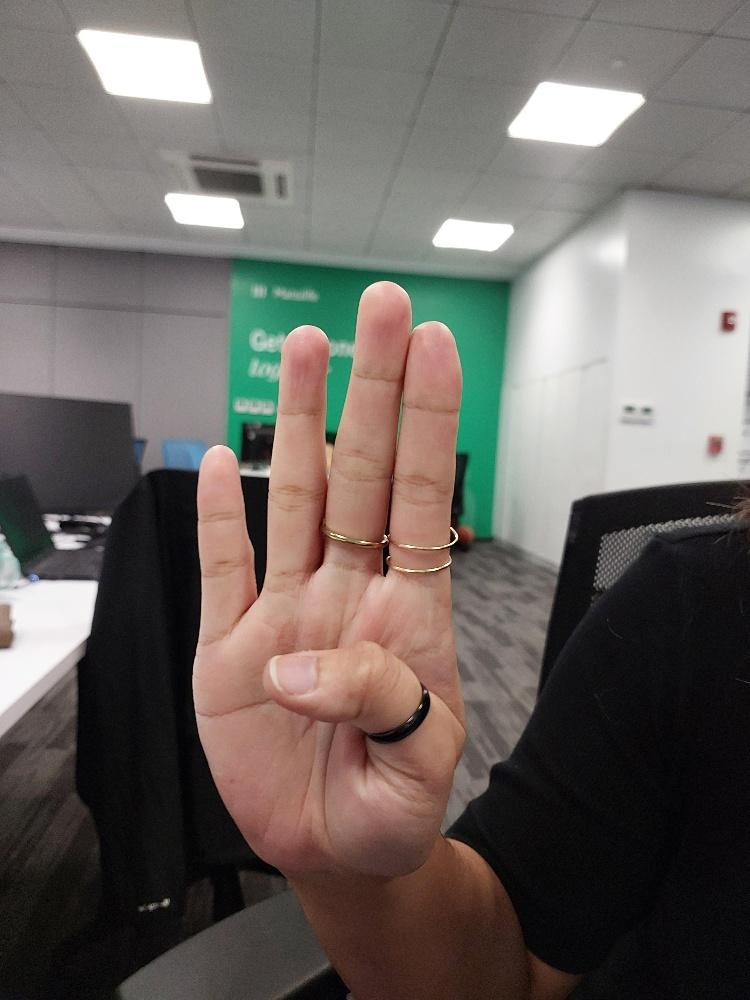b: (188, 275, 474, 878)
